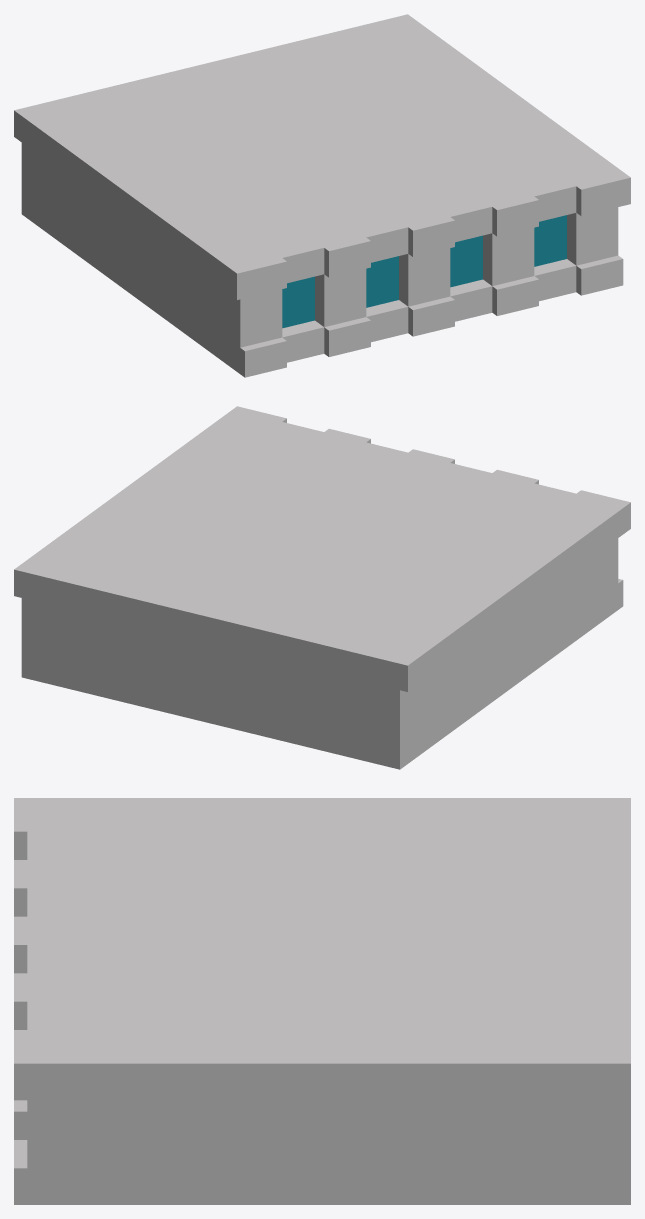
File: building1_floor.glb
3 renders of one model, top to bottom at view 1: azimuth 30°, elevation 25°; view 2: azimuth 150°, elevation 25°; view 3: azimuth 270°, elevation 25°, orthographic. The views are drawn at different scales.
Parts seen in each view (by area): view 1: Building, Plane; view 2: Building; view 3: Building.
Boxes of the visible parts, x1,y1,x2,y2 form: Building: [14, 14, 630, 377]; Plane: [282, 215, 566, 328]; Building: [14, 406, 630, 769]; Building: [14, 798, 630, 1204].
Bounding box in the file's own units: 25.26 × 6.5 × 24.79.
